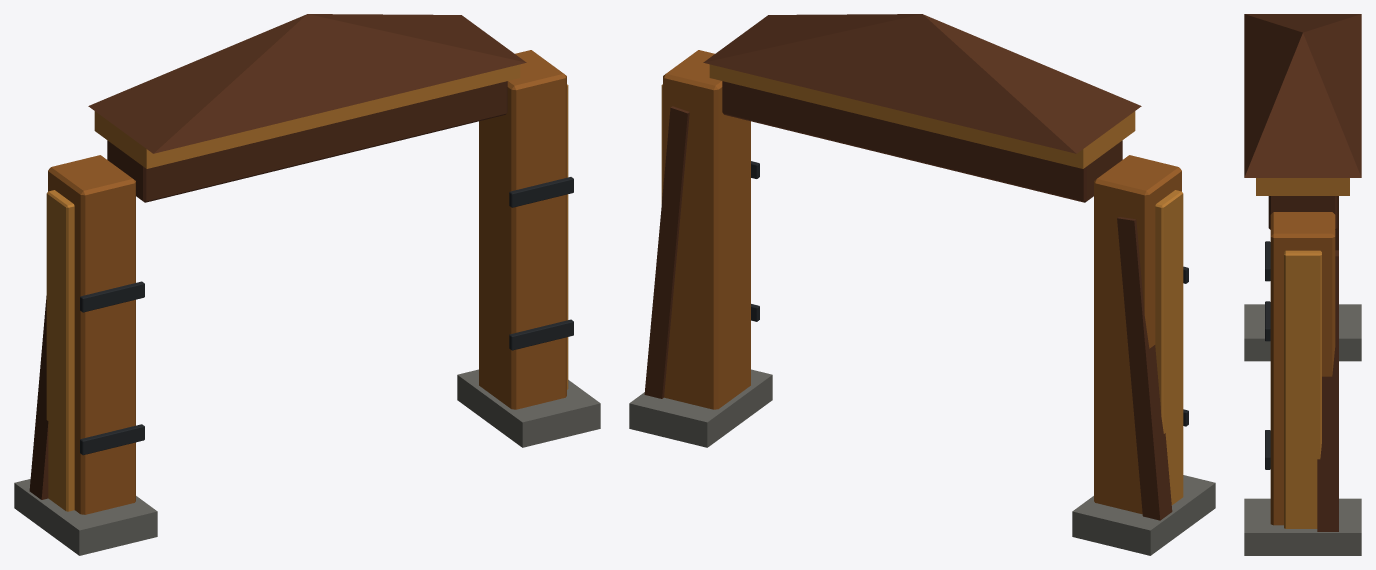
3 views of the same model, side by side, from view 1: azimuth 30°, elevation 25°; view 2: azimuth 150°, elevation 25°; view 3: azimuth 270°, elevation 25° (orthographic). The views are drawn at different scales.
Visible parts, largest first — view 1: WK_WoodPalisade_W15_LOD1; view 2: WK_WoodPalisade_W15_LOD1; view 3: WK_WoodPalisade_W15_LOD1.
Part boxes in pixels (x1,y1,x2,y2): WK_WoodPalisade_W15_LOD1: (14, 14, 600, 555); WK_WoodPalisade_W15_LOD1: (629, 14, 1215, 555); WK_WoodPalisade_W15_LOD1: (1244, 14, 1361, 555).
Size of the model in its own units: 6 by 5 by 1.3.
